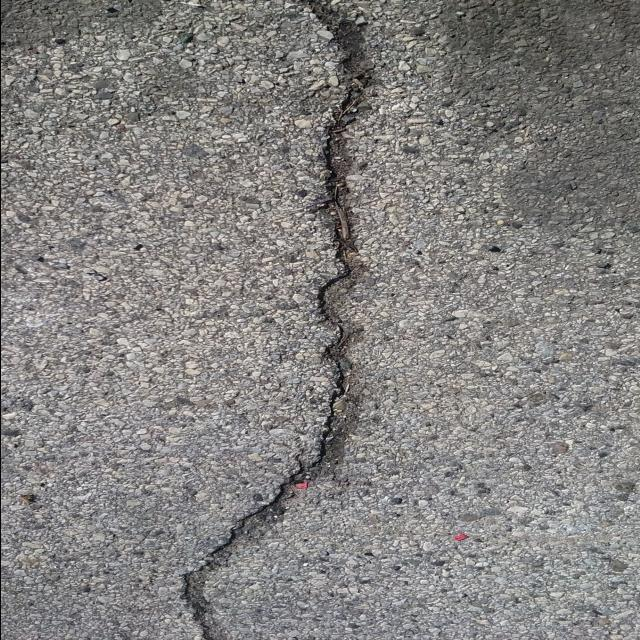Crack: (179, 0, 373, 640)
